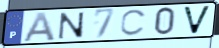0: (153, 5, 178, 37)
7: (92, 7, 116, 42)
A: (21, 11, 57, 43)
C: (119, 8, 149, 38)
N: (58, 12, 86, 41)
V: (182, 5, 213, 36)
